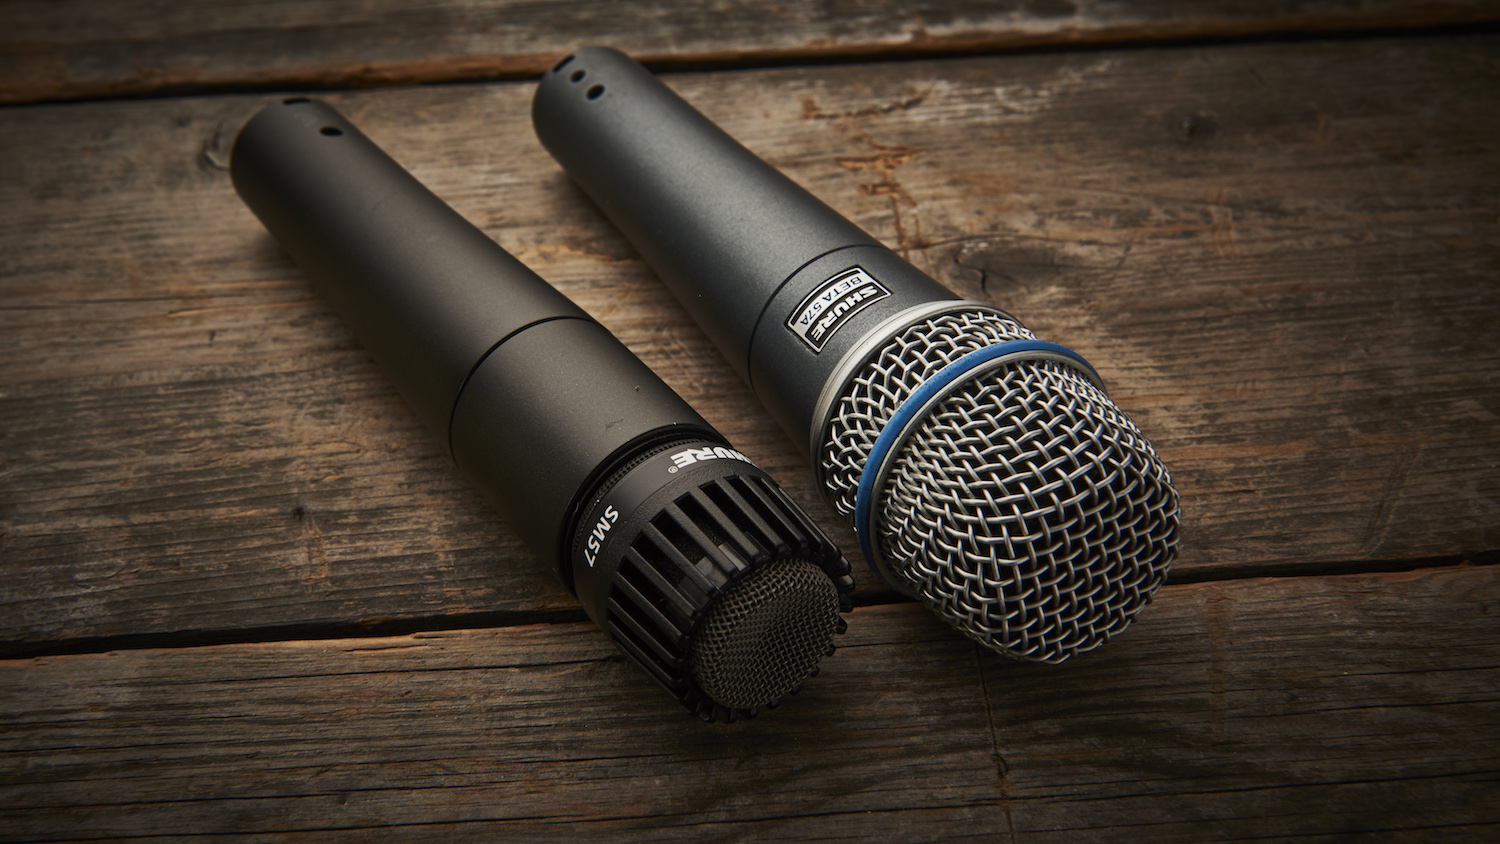microphone: (529, 45, 1184, 669), (229, 93, 858, 724)
